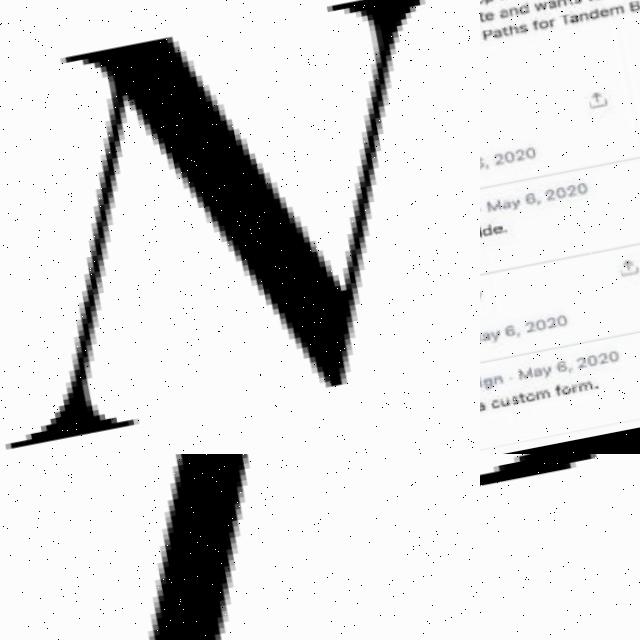0: (575, 180, 587, 194), (607, 349, 619, 363), (525, 146, 535, 160), (556, 186, 566, 199), (504, 150, 514, 162), (535, 318, 545, 330), (556, 314, 566, 326), (587, 354, 597, 366)
2: (493, 152, 503, 166), (515, 148, 525, 162), (546, 188, 556, 201), (567, 183, 577, 196), (525, 320, 535, 332), (546, 316, 556, 328), (576, 356, 586, 368), (597, 352, 607, 364)
6: (556, 359, 568, 373), (525, 192, 535, 205), (506, 324, 516, 337), (480, 156, 484, 169)
A: (567, 12, 579, 24), (532, 366, 544, 378), (498, 8, 508, 18), (491, 28, 501, 38), (546, 0, 556, 9), (502, 199, 511, 208), (482, 332, 491, 341), (480, 401, 485, 410)
B: (627, 0, 640, 13)
C: (491, 398, 500, 408)
D: (481, 222, 493, 236), (518, 1, 528, 14), (589, 7, 599, 20)
E: (599, 6, 609, 18), (483, 10, 493, 22), (491, 224, 502, 234)
F: (531, 17, 539, 30), (554, 383, 562, 396)
G: (483, 376, 493, 389)
H: (507, 22, 517, 34)
I: (480, 376, 482, 386), (638, 0, 640, 9)
J: (0, 454, 450, 640)
M: (485, 197, 502, 212), (517, 366, 534, 380), (607, 4, 624, 16), (535, 388, 551, 399), (577, 381, 593, 392)
N: (0, 0, 480, 454), (494, 374, 503, 384), (508, 7, 517, 16), (579, 12, 588, 21), (555, 0, 566, 6)
O: (561, 384, 572, 394), (526, 392, 535, 401), (539, 20, 548, 28)
P: (483, 28, 493, 40), (483, 0, 493, 3)
R: (548, 18, 555, 27), (571, 383, 578, 392)
S: (518, 22, 528, 34), (510, 395, 519, 404), (571, 0, 581, 3)
T: (560, 12, 570, 23), (518, 392, 526, 402), (501, 26, 509, 36), (480, 11, 484, 22), (565, 0, 574, 4)
U: (501, 396, 510, 406)
W: (532, 0, 548, 12)
Y: (542, 364, 552, 378), (510, 197, 520, 210), (491, 329, 501, 342)
